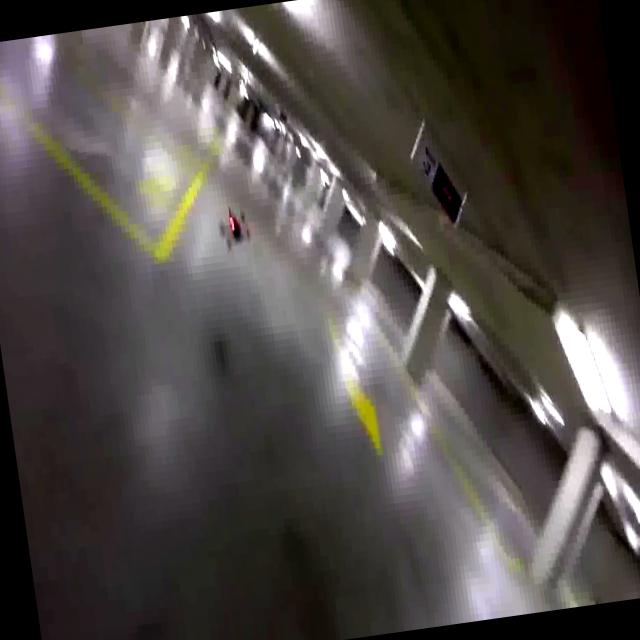drone: (210, 196, 256, 254)
